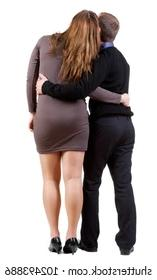dress: (24, 34, 122, 155)
sweater: (41, 45, 134, 117)
trousers: (81, 116, 137, 248)
